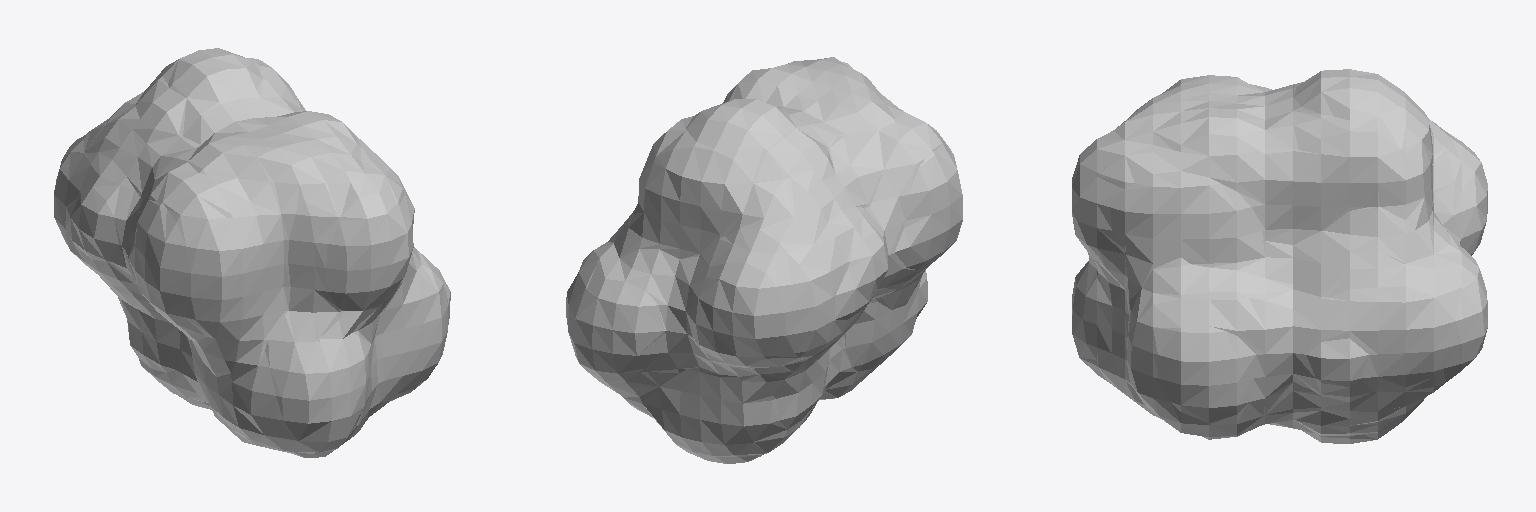
Rendered from 1tpl_1_cms.obj.
The picture shows the model from 3 angles: view 1: azimuth 30°, elevation 25°; view 2: azimuth 150°, elevation 25°; view 3: azimuth 270°, elevation 25°; orthographic projection.
Bounding box in the file's own units: 99.83 × 114 × 123.